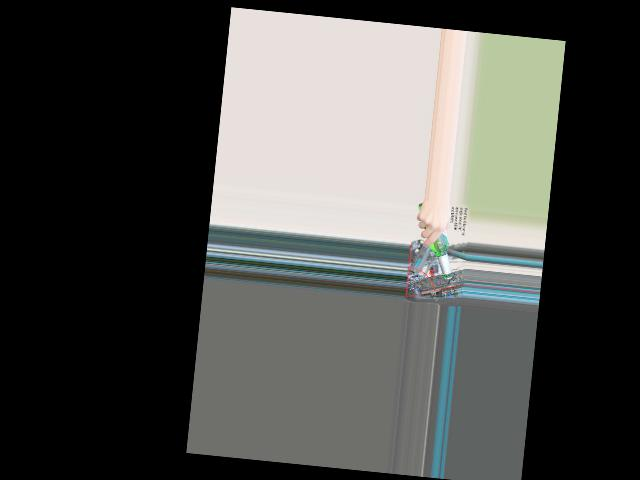beer: (410, 202, 458, 281)
